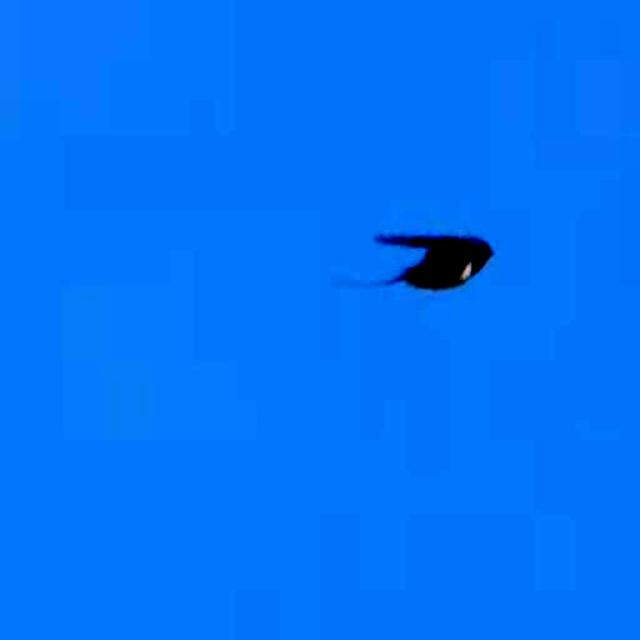airplane: (364, 216, 498, 306)
